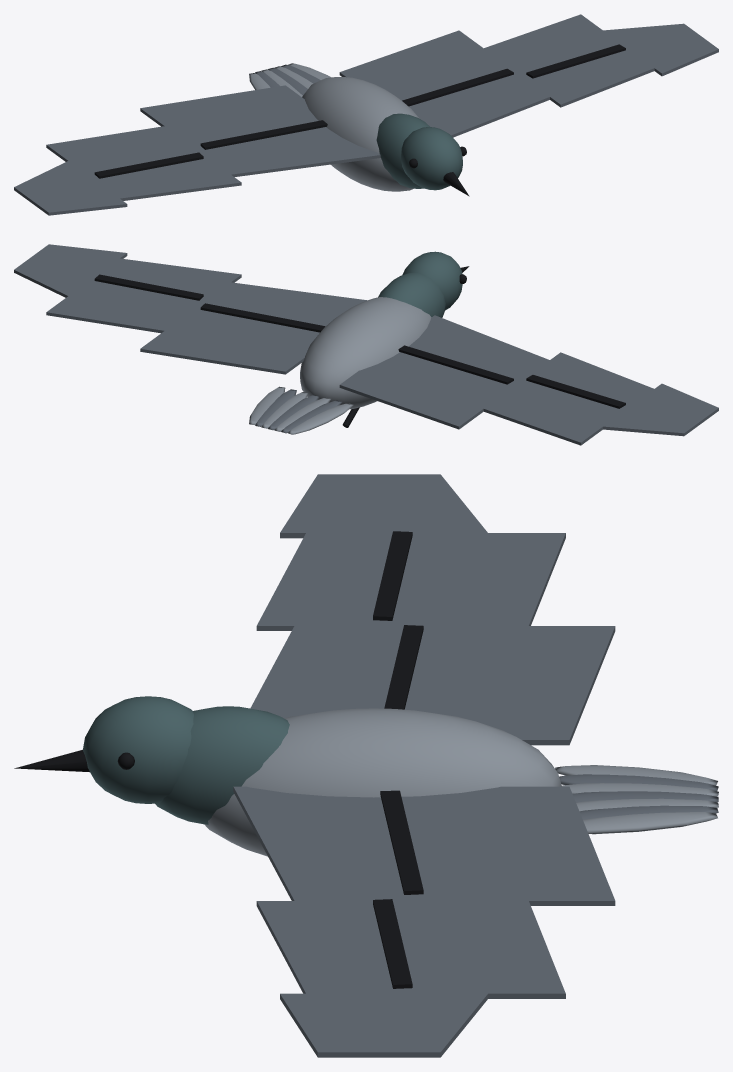
The model's file is v3-rock-pigeon-low.glb.
3 renders of one model, top to bottom at view 1: azimuth 30°, elevation 25°; view 2: azimuth 150°, elevation 25°; view 3: azimuth 270°, elevation 25°, orthographic. The views are drawn at different scales.
Visible parts, largest first — view 1: feather-cover-right-0, feather-cover-left-0, feather-cover-right-1, feather-cover-left-1, surface-detail (×4), body, feather-cover-right-2, feather-cover-left-2, wing-right, wing-left, elbow-right, elbow-left; view 2: feather-cover-right-0, feather-cover-left-0, body, feather-cover-left-1, feather-cover-right-1, surface-detail (×3), feather-cover-right-2, feather-cover-left-2, wing-left, wing-right, elbow-left, elbow-right; view 3: feather-cover-left-0, feather-cover-right-0, surface-detail (×4), feather-cover-left-1, feather-cover-right-1, body, feather-cover-left-2, feather-cover-right-2, wing-left, elbow-left, elbow-right, wing-right.
Boxes of the visible parts, left/top/right/bottom form: feather-cover-right-0: left=140, top=85, right=380, bottom=176; feather-cover-left-0: left=339, top=30, right=549, bottom=137; feather-cover-right-1: left=46, top=126, right=241, bottom=200; feather-cover-left-1: left=484, top=14, right=654, bottom=107; surface-detail (×4): left=249, top=63, right=469, bottom=196; body: left=302, top=77, right=418, bottom=191; feather-cover-right-2: left=14, top=161, right=127, bottom=215; feather-cover-left-2: left=603, top=23, right=718, bottom=76; wing-right: left=200, top=120, right=327, bottom=149; wing-left: left=402, top=68, right=513, bottom=106; elbow-right: left=94, top=152, right=203, bottom=178; elbow-left: left=526, top=44, right=625, bottom=78; feather-cover-right-0: left=339, top=315, right=549, bottom=429; feather-cover-left-0: left=140, top=282, right=367, bottom=374; body: left=300, top=297, right=431, bottom=409; feather-cover-left-1: left=46, top=258, right=241, bottom=333; feather-cover-right-1: left=483, top=352, right=653, bottom=445; surface-detail (×3): left=249, top=251, right=462, bottom=434; feather-cover-right-2: left=603, top=383, right=718, bottom=436; feather-cover-left-2: left=14, top=244, right=127, bottom=297; wing-left: left=200, top=303, right=325, bottom=332; wing-right: left=398, top=345, right=513, bottom=384; elbow-left: left=94, top=274, right=203, bottom=300; elbow-right: left=526, top=375, right=625, bottom=408; feather-cover-left-0: left=233, top=786, right=615, bottom=905; feather-cover-right-0: left=250, top=626, right=615, bottom=745; surface-detail (×4): left=14, top=696, right=718, bottom=834; feather-cover-left-1: left=256, top=901, right=565, bottom=998; feather-cover-right-1: left=256, top=533, right=565, bottom=630; body: left=204, top=708, right=561, bottom=856; feather-cover-left-2: left=280, top=993, right=487, bottom=1057; feather-cover-right-2: left=280, top=474, right=487, bottom=538; wing-left: left=380, top=790, right=423, bottom=894; elbow-left: left=373, top=899, right=412, bottom=988; elbow-right: left=373, top=531, right=412, bottom=620; wing-right: left=384, top=625, right=423, bottom=709.
Size of the model in its own units: 0.62 by 0.0863 by 0.3197.
